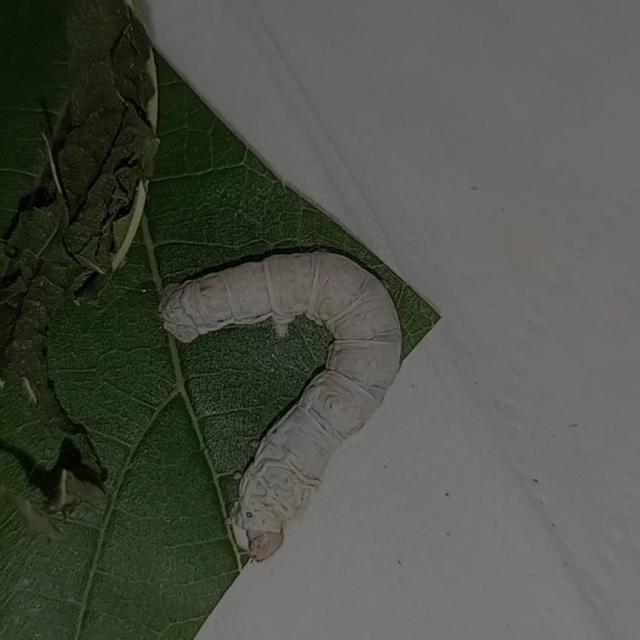Healthy: (144, 220, 424, 574)
